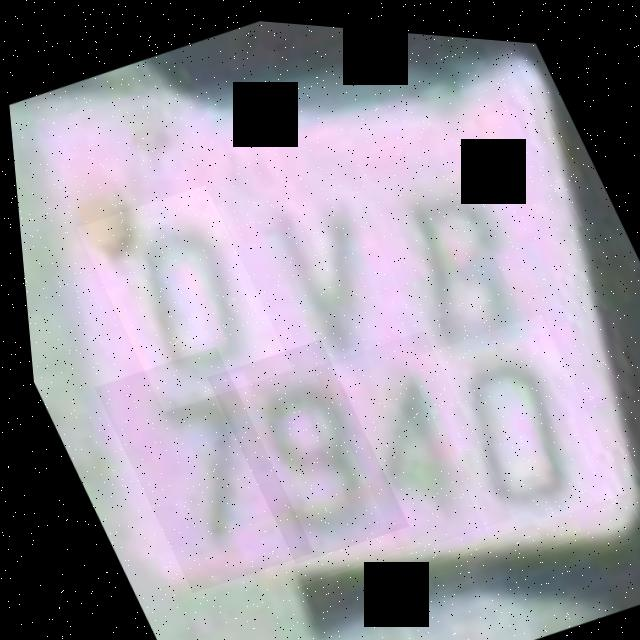0: (395, 296, 622, 540)
4: (302, 316, 507, 556)
7: (83, 335, 308, 598)
9: (197, 326, 404, 567)
B: (344, 131, 547, 362)
O: (68, 172, 291, 418)
